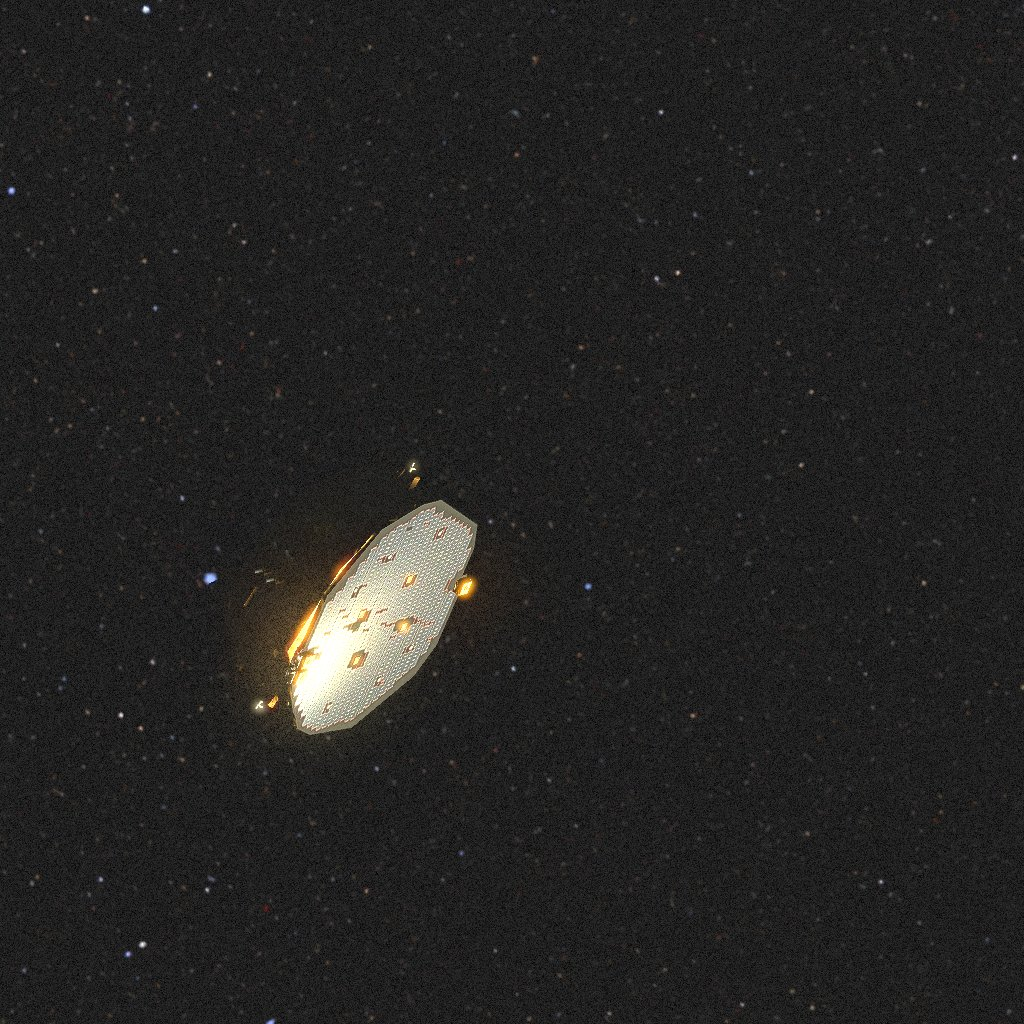lisa_pathfinder: (209, 456, 477, 735)
